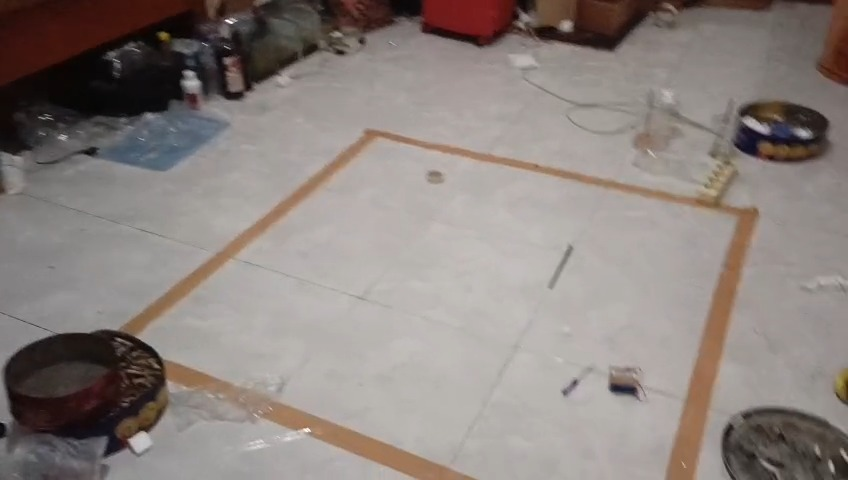floor marking: (121, 130, 758, 479), (270, 399, 473, 479), (166, 361, 249, 397)
